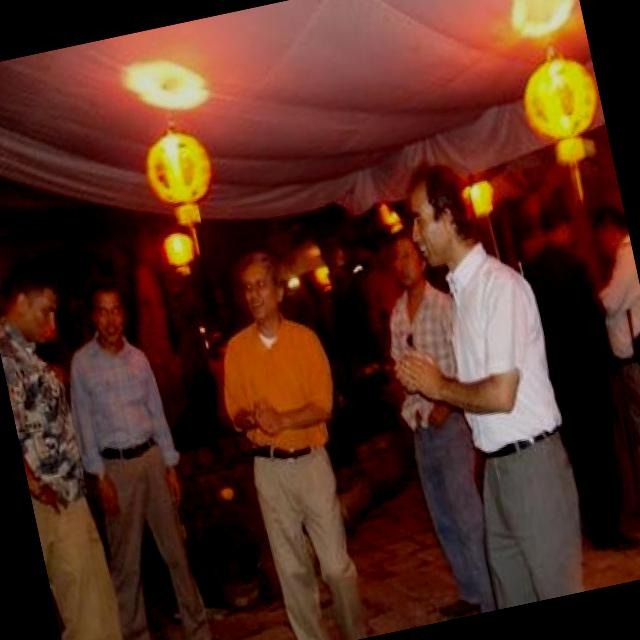no_vest: (418, 231, 572, 464), (204, 288, 346, 468), (364, 268, 476, 442), (0, 308, 94, 501), (63, 320, 180, 469), (583, 228, 640, 378)
